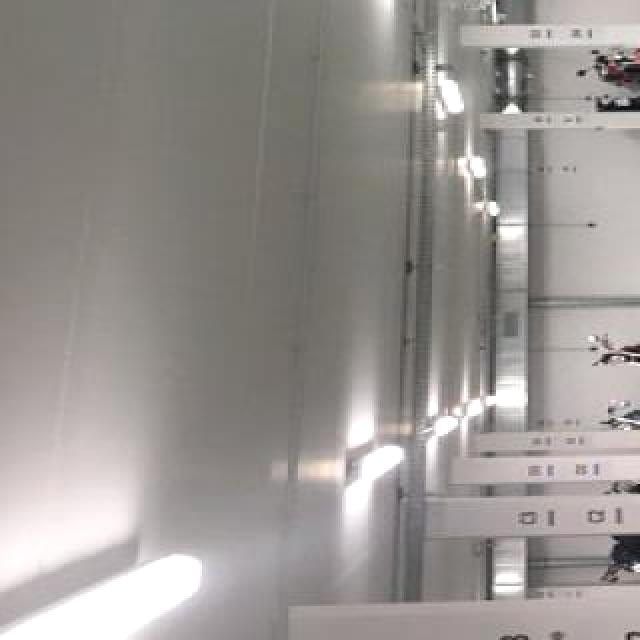fluorescent tube: (0, 524, 238, 640), (420, 69, 482, 136), (344, 440, 424, 491), (415, 402, 469, 453), (447, 387, 493, 433), (453, 140, 496, 185), (476, 192, 513, 232), (362, 0, 424, 12), (485, 389, 507, 409)
